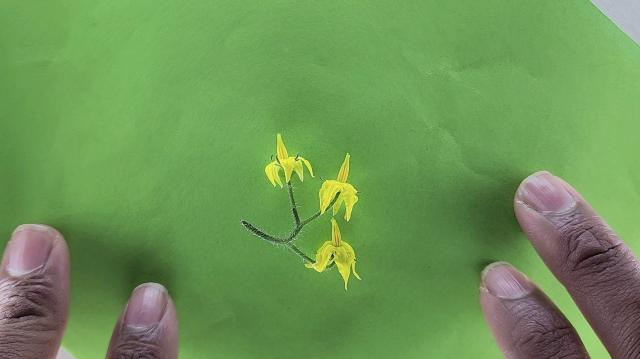Anthesis: (306, 215, 362, 293), (317, 153, 360, 224), (265, 133, 315, 190), (265, 156, 285, 190)
